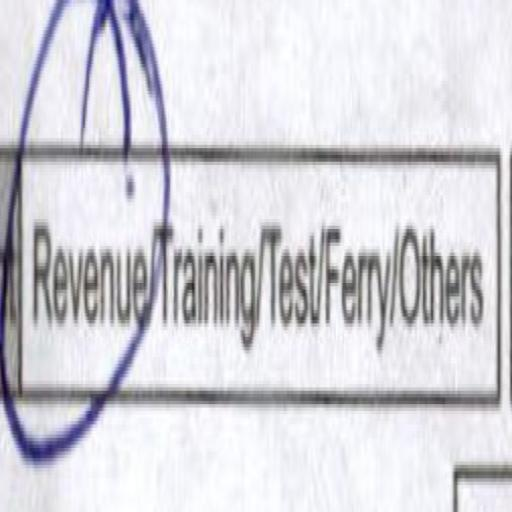check: (26, 2, 160, 459)
